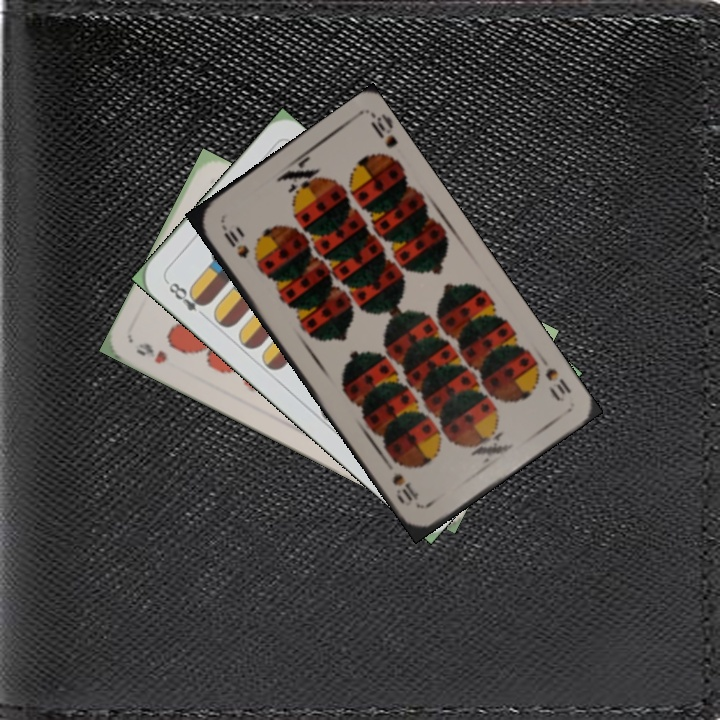E8: (162, 276, 210, 321)
H9: (132, 338, 170, 367)
S10: (534, 351, 574, 404), (217, 220, 252, 261)
